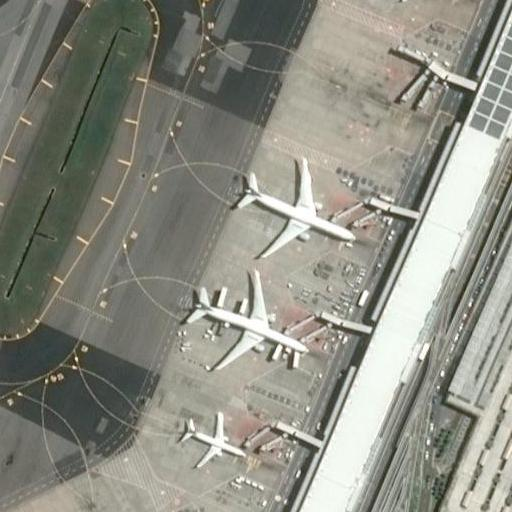Aircraft: (181, 268, 306, 370), (230, 156, 354, 257), (176, 408, 242, 468), (384, 0, 456, 3)
